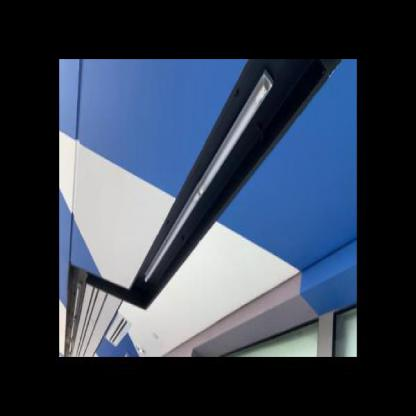light_off: (140, 68, 278, 295)
